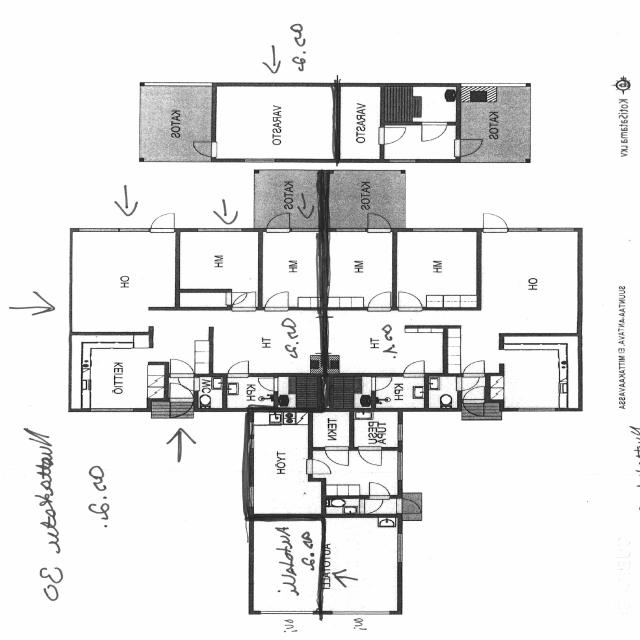door: (267, 212, 290, 232), (151, 212, 174, 232), (170, 382, 193, 402), (170, 398, 193, 418), (171, 357, 193, 377), (266, 291, 288, 310), (233, 291, 255, 310), (228, 359, 249, 377), (191, 142, 216, 157), (226, 292, 250, 305), (255, 378, 279, 391), (176, 378, 198, 390)
